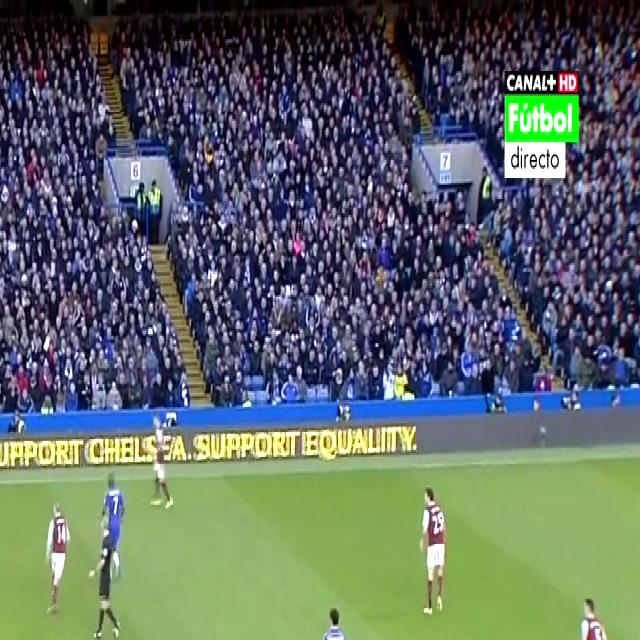referee: (83, 519, 124, 640)
soccer-player: (417, 477, 459, 628), (146, 399, 184, 516), (42, 496, 76, 623), (99, 468, 129, 578), (571, 586, 622, 640), (311, 595, 356, 640), (0, 393, 1, 494)
